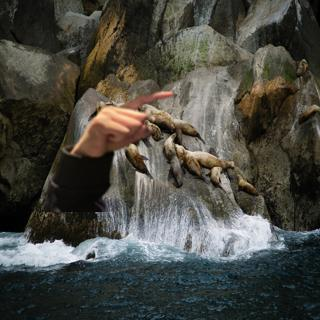WHY: (70, 82, 181, 157)
